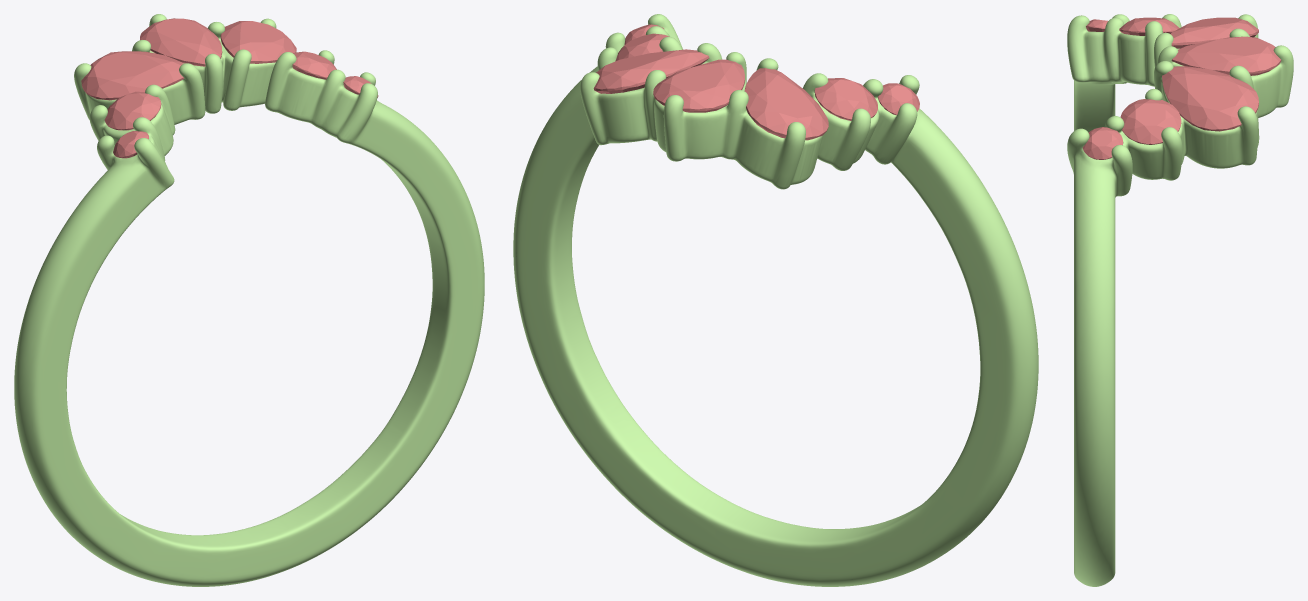
Rendered from BE2D5314_RENDER.glb.
The picture shows the model from 3 angles, left to right: view 1: azimuth 30°, elevation 25°; view 2: azimuth 150°, elevation 25°; view 3: azimuth 270°, elevation 25°; orthographic projection. The views are drawn at different scales.
Parts seen in each view (by area): view 1: Metal03, Diamond_Pear_Gem_BD.001, Diamond_Pear_Gem_BD.003, Diamond_Pear_Gem_BD.002, Diamond_Round_Gem_BD.002, Diamond_Round_Gem_BD.003; view 2: Metal03, Diamond_Pear_Gem_BD.001, Diamond_Pear_Gem_BD.003, Diamond_Pear_Gem_BD.002, Diamond_Round_Gem_BD.002, Diamond_Round_Gem_BD.001, Diamond_Round_Gem_BD.003; view 3: Metal03, Diamond_Pear_Gem_BD.002, Diamond_Pear_Gem_BD.003, Diamond_Round_Gem_BD.003, Diamond_Pear_Gem_BD.001, Diamond_Round_Gem_BD, Diamond_Round_Gem_BD.002.
Part boxes in pixels (left/top/right/bottom): Metal03: left=14, top=14, right=484, bottom=586; Diamond_Pear_Gem_BD.001: left=81, top=51, right=184, bottom=100; Diamond_Pear_Gem_BD.003: left=140, top=18, right=222, bottom=66; Diamond_Pear_Gem_BD.002: left=220, top=21, right=296, bottom=63; Diamond_Round_Gem_BD.002: left=104, top=91, right=161, bottom=130; Diamond_Round_Gem_BD.003: left=292, top=51, right=336, bottom=79; Metal03: left=513, top=14, right=1038, bottom=586; Diamond_Pear_Gem_BD.001: left=744, top=68, right=828, bottom=140; Diamond_Pear_Gem_BD.003: left=653, top=59, right=744, bottom=112; Diamond_Pear_Gem_BD.002: left=593, top=49, right=709, bottom=93; Diamond_Round_Gem_BD.002: left=814, top=78, right=877, bottom=120; Diamond_Round_Gem_BD.001: left=878, top=83, right=919, bottom=115; Diamond_Round_Gem_BD.003: left=615, top=33, right=669, bottom=61; Metal03: left=1067, top=14, right=1293, bottom=586; Diamond_Pear_Gem_BD.002: left=1162, top=66, right=1258, bottom=131; Diamond_Pear_Gem_BD.003: left=1171, top=36, right=1281, bottom=75; Diamond_Round_Gem_BD.003: left=1120, top=99, right=1181, bottom=144; Diamond_Pear_Gem_BD.001: left=1170, top=17, right=1258, bottom=48; Diamond_Round_Gem_BD: left=1082, top=127, right=1123, bottom=159; Diamond_Round_Gem_BD.002: left=1119, top=17, right=1179, bottom=35.
Size of the model in its own units: 20.08 by 20.57 by 8.21.
